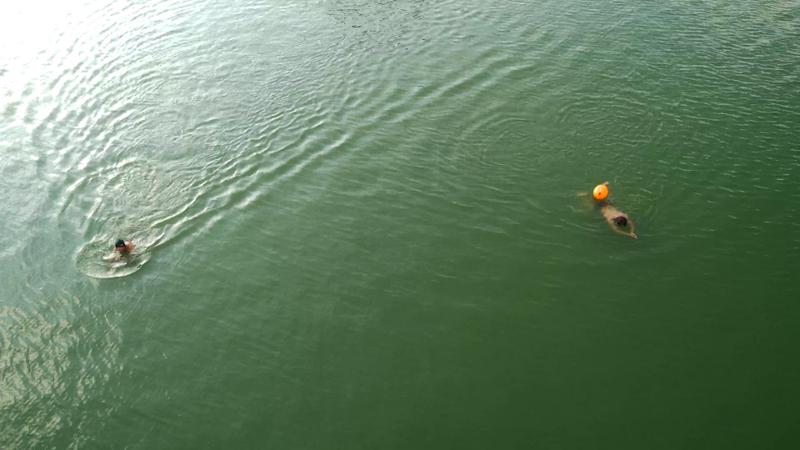swimmers: (576, 181, 638, 240), (110, 237, 135, 255)
